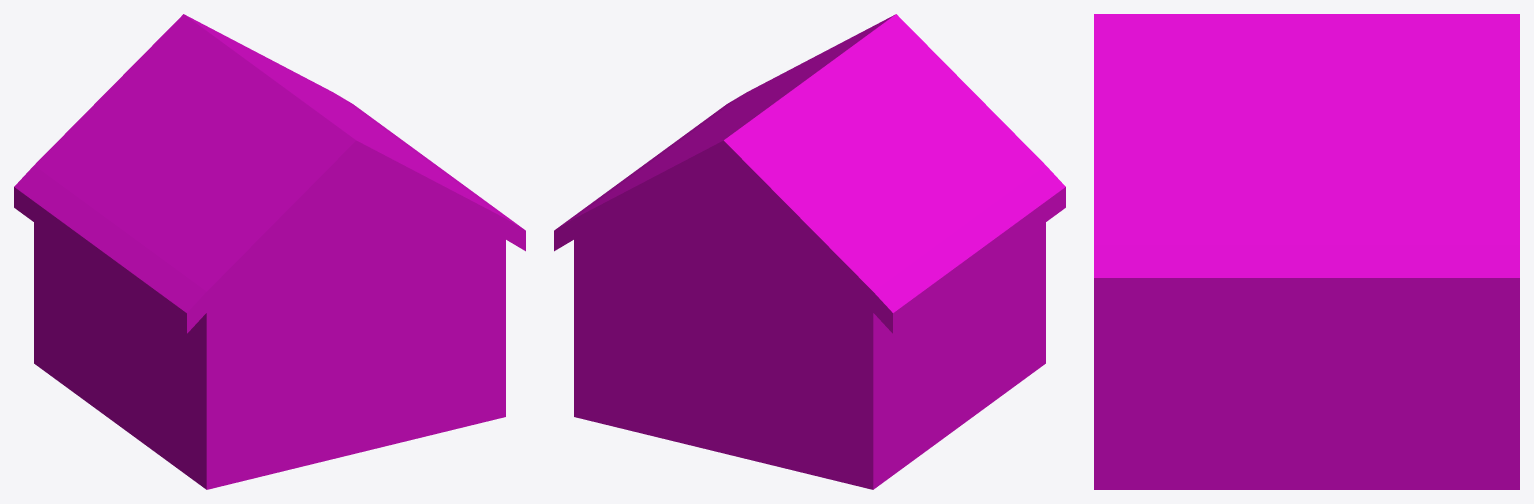
File: DogHouse.fbx
The picture shows the model from 3 angles, left to right: view 1: azimuth 30°, elevation 25°; view 2: azimuth 150°, elevation 25°; view 3: azimuth 270°, elevation 25°; orthographic projection. The views are drawn at different scales.
Parts seen in each view (by area): view 1: DogHouse; view 2: DogHouse; view 3: DogHouse.
Boxes of the visible parts, box(x1,y1,x2,y2) form: DogHouse: box(14, 14, 525, 489); DogHouse: box(554, 14, 1065, 489); DogHouse: box(1094, 14, 1519, 489).
Bounding box in the file's own units: 113 × 100 × 100.
